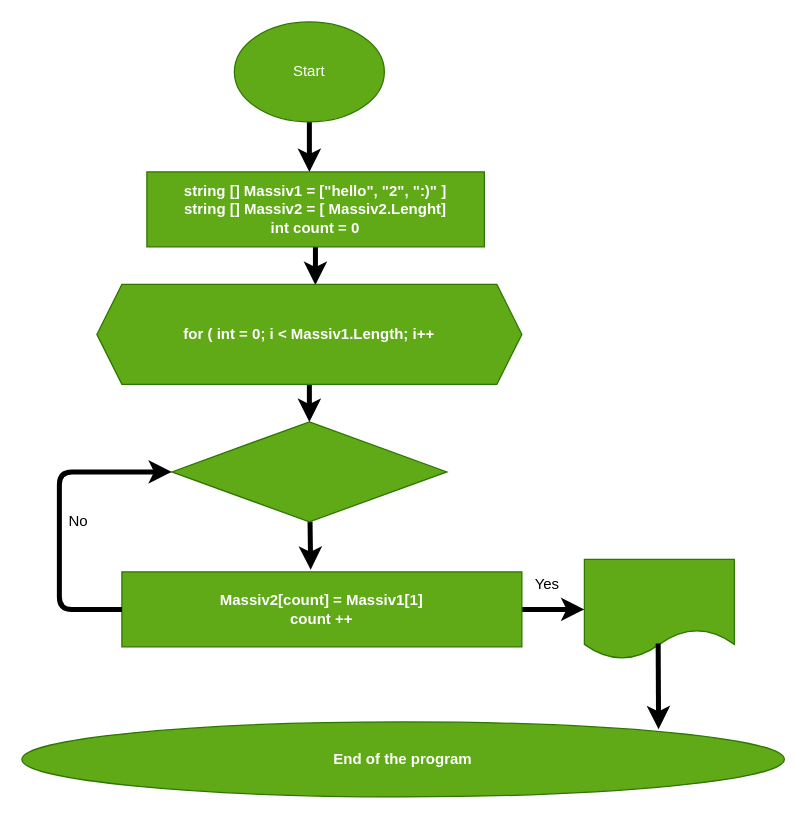
Some shapes in this 806 by 819 pixel diagram are drawn without their labels. Each missing label, with the centre of its shape:
if (Massiv1[i].Lenght <= 3: point 309,471
Print Massiv2: point 658,608
